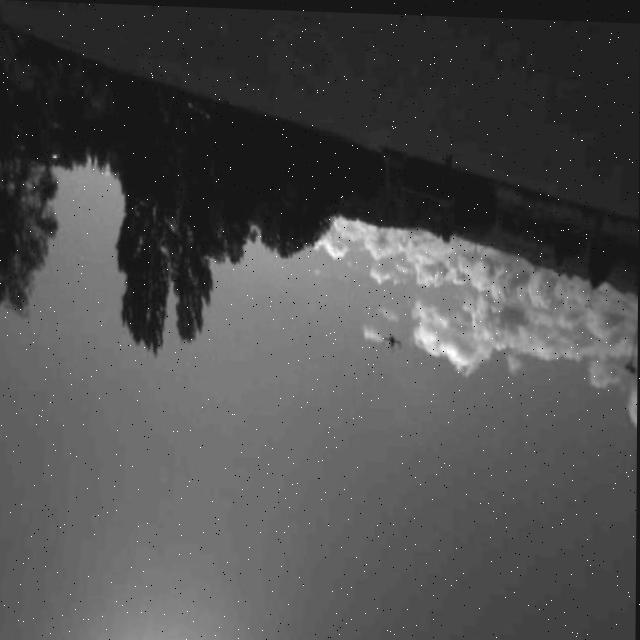drone: (383, 330, 404, 353)
